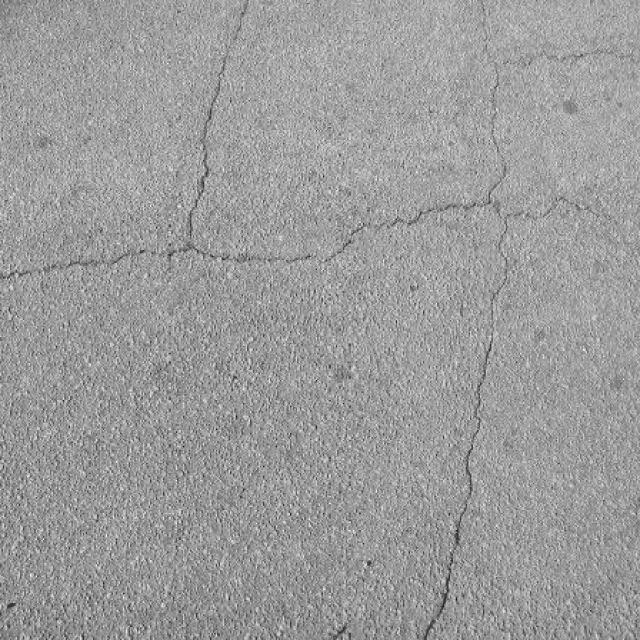Crack: (1, 8, 635, 639), (195, 5, 248, 212)
